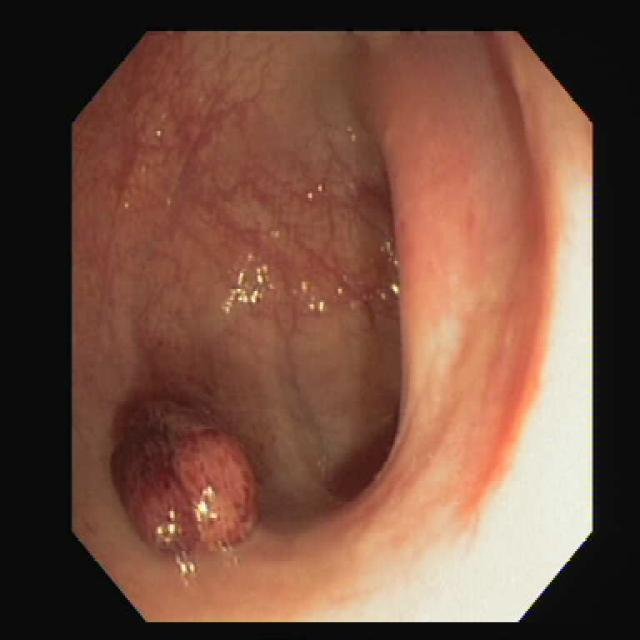tumor: (113, 393, 258, 553)
